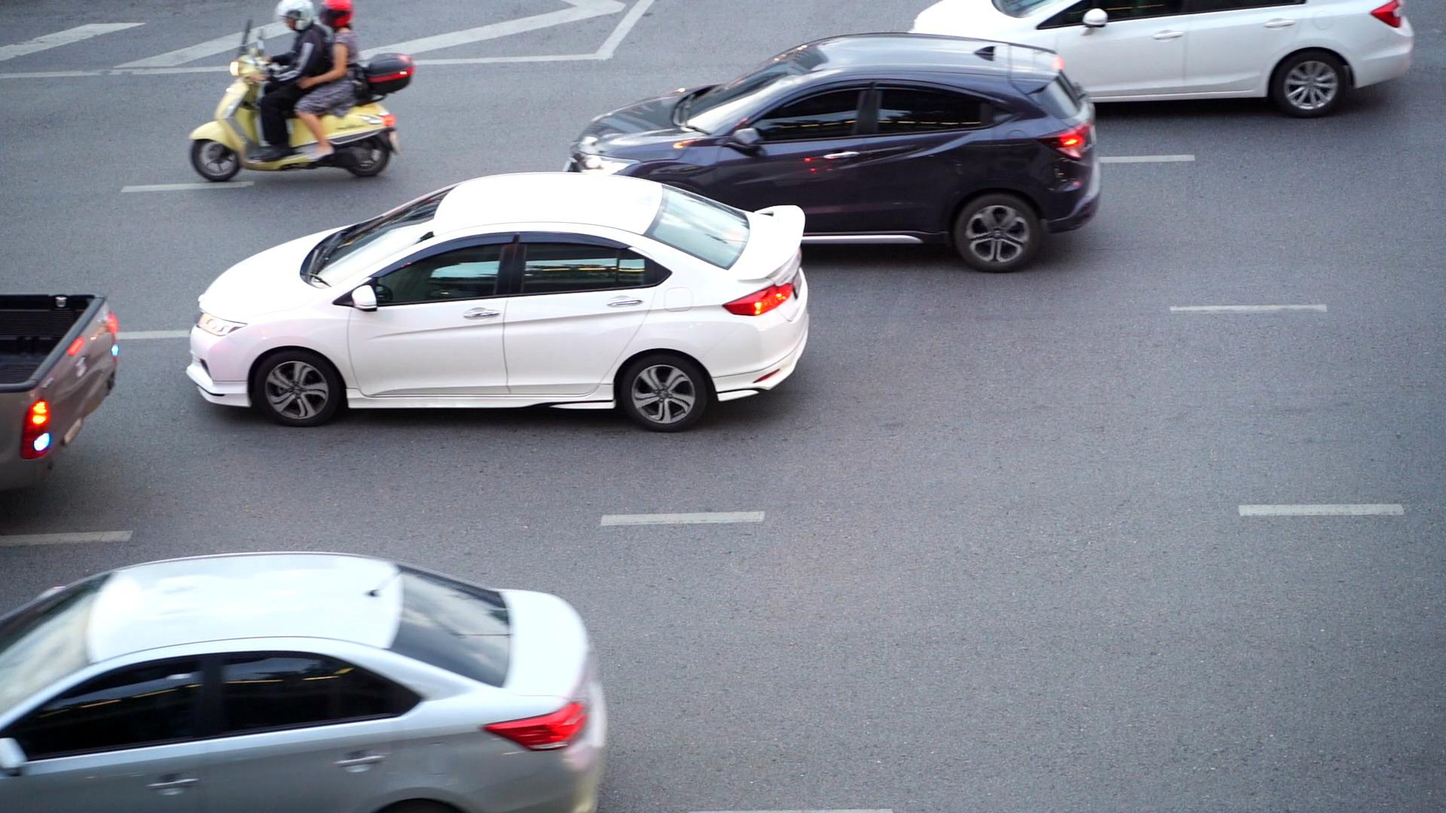driver: (187, 0, 414, 181)
helmet: (274, 0, 316, 32), (318, 0, 355, 30)
